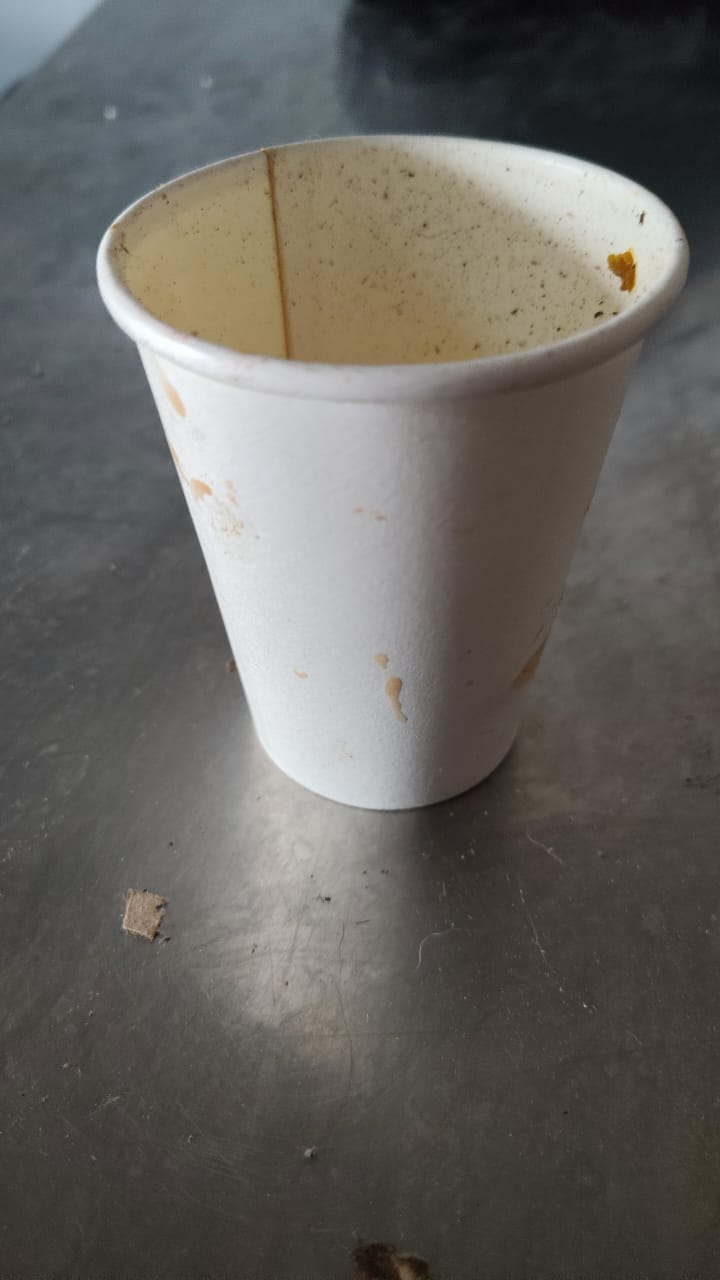Carton: (93, 132, 687, 805)
